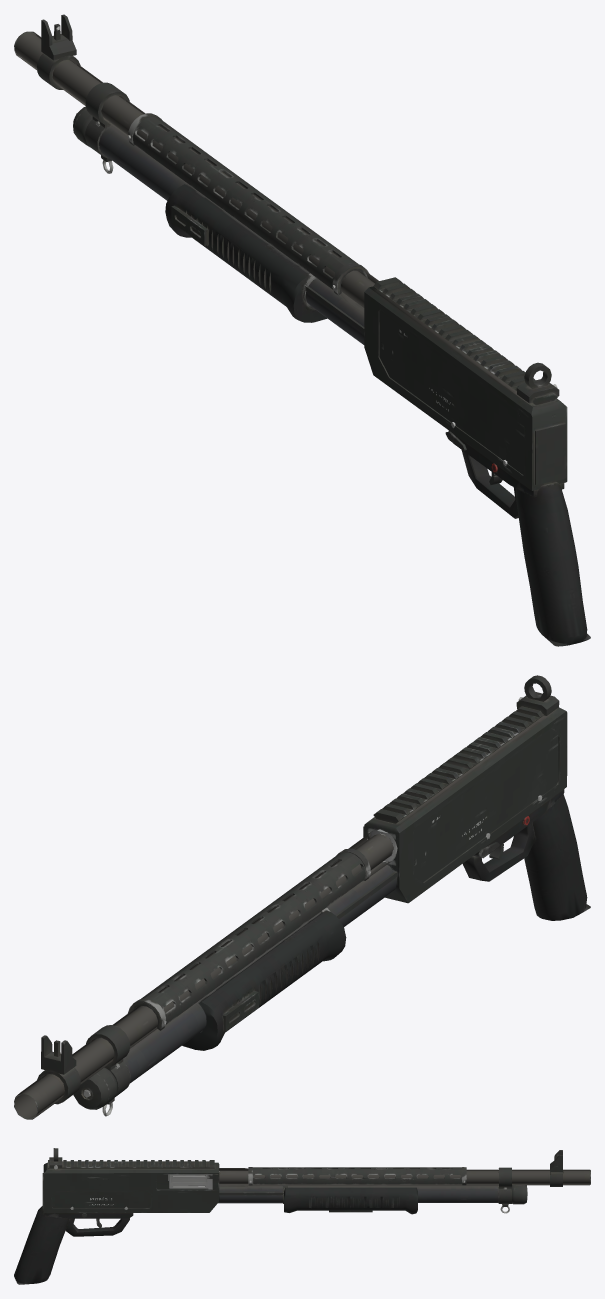
Rendered from espingarda_12_leve.glb.
3 views of the same model, one above another, from view 1: azimuth 30°, elevation 25°; view 2: azimuth 150°, elevation 25°; view 3: azimuth 270°, elevation 25° (orthographic). The views are drawn at different scales.
Parts seen in each view (by area): view 1: espingarda_12_leve; view 2: espingarda_12_leve; view 3: espingarda_12_leve.
Part boxes in pixels (x1,y1,x2,y2): espingarda_12_leve: (14,14,590,646); espingarda_12_leve: (14,675,590,1119); espingarda_12_leve: (14,1148,590,1284).
Size of the model in its own units: 0.0442 by 0.1994 by 0.7884.
Materials: 1 (1 with a texture image).
